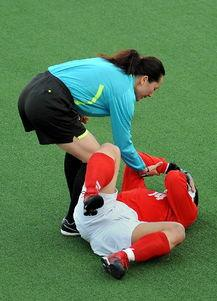bending: (17, 51, 148, 218)
down: (69, 140, 199, 281)
